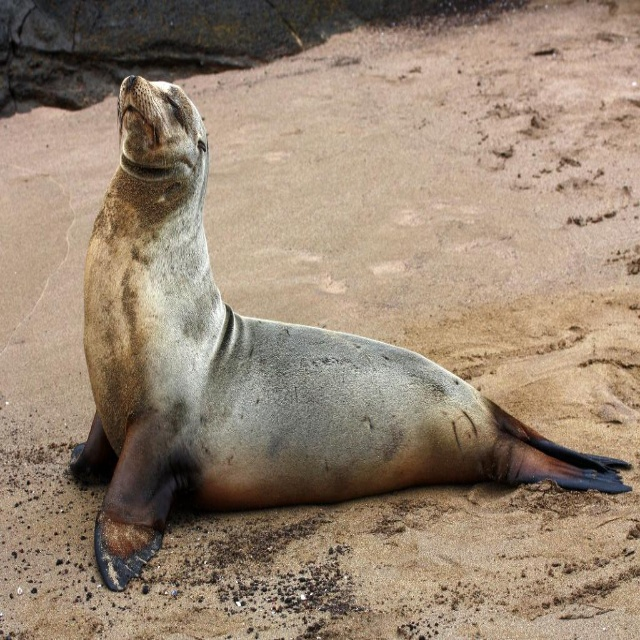Harbor seal: (67, 73, 632, 590)
